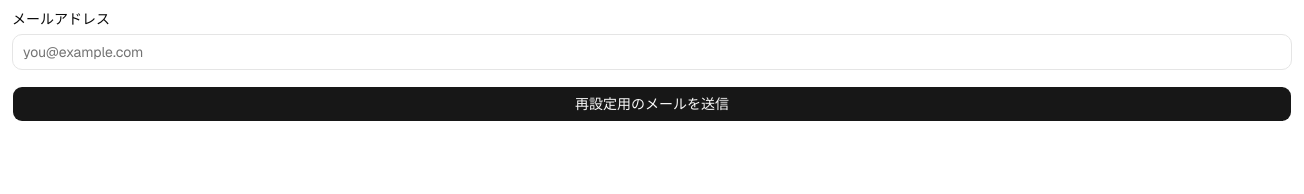
Test: ForgotPasswordForm › メールアドレスの形式が不正だと、送信せずにエラーを表示する
Type "user@example" into the field labelled "メールアドレス" at (652, 52), box x1=12 y1=34 x2=1292 y2=70
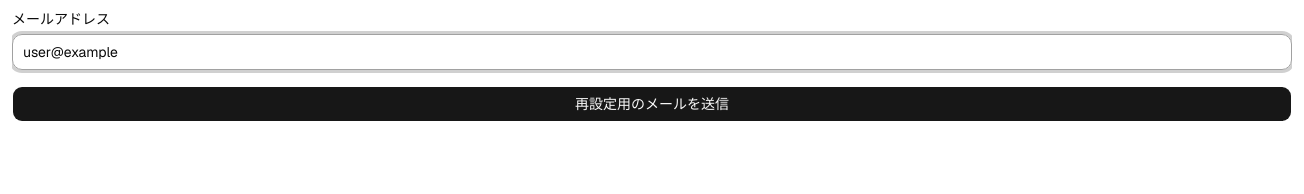
Click the button "再設定用のメールを送信" at (652, 104), box x1=12 y1=86 x2=1292 y2=122
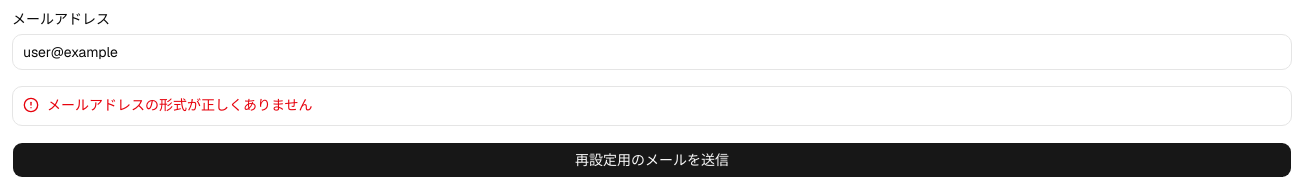
Expected: the message reads "メールアドレスの形式が正しくありません", x1=47 y1=96 x2=313 y2=114
